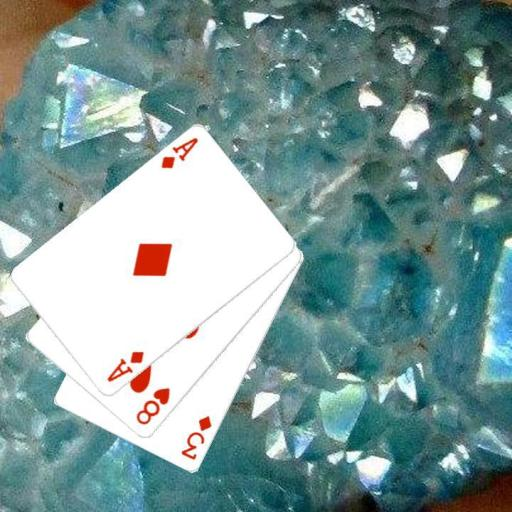3D: (177, 413, 213, 463)
8H: (132, 385, 172, 427)
AD: (158, 134, 200, 171), (103, 348, 146, 384)
